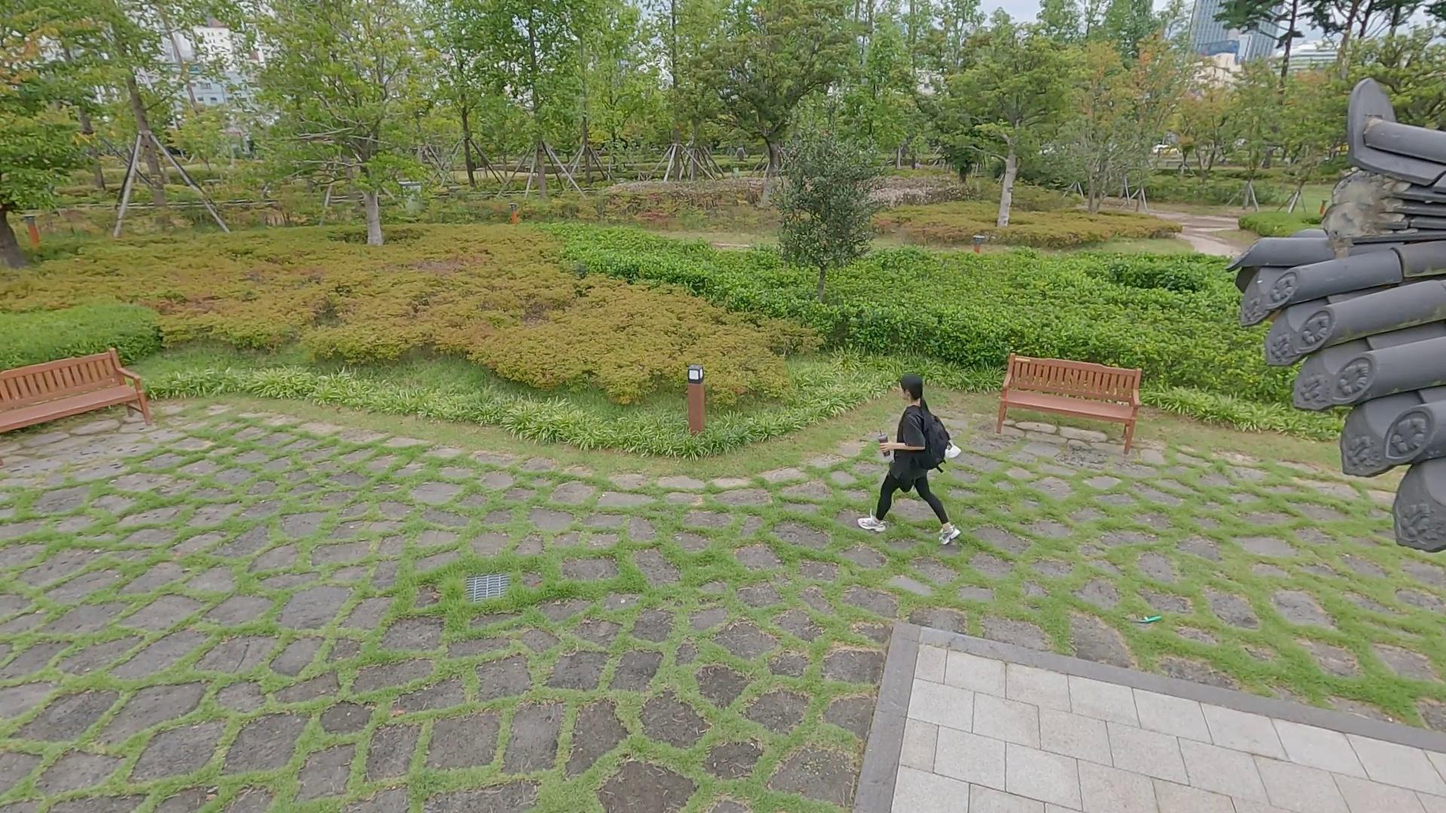person: (858, 369, 972, 558)
trash: (873, 421, 896, 467)
